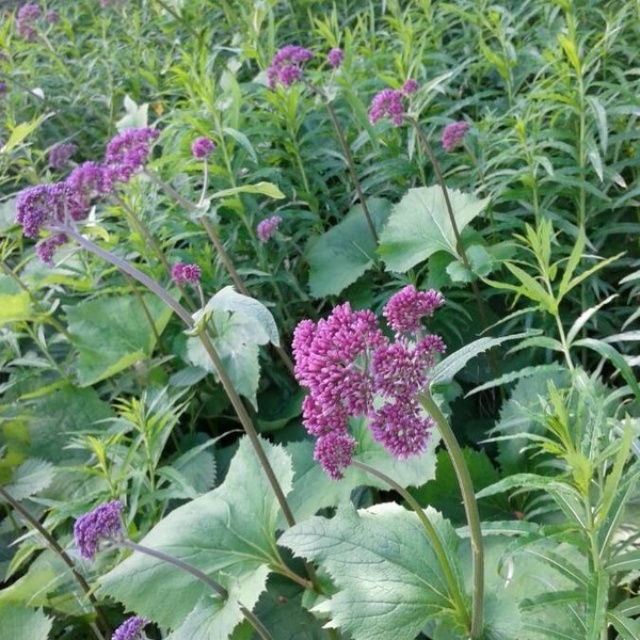obstacle: (38, 110, 598, 615)
